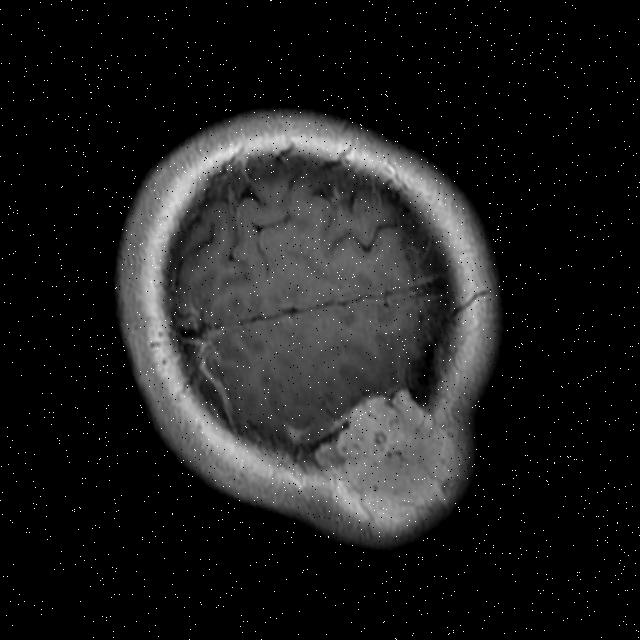Meningioma: (300, 379, 456, 524)
